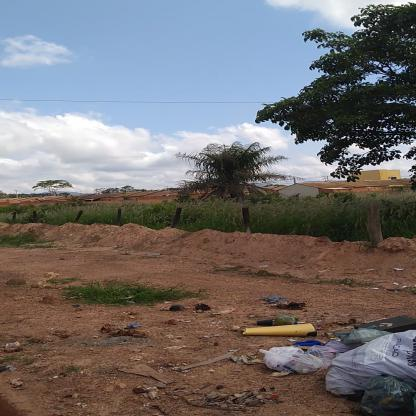lixo: (235, 312, 416, 402)
